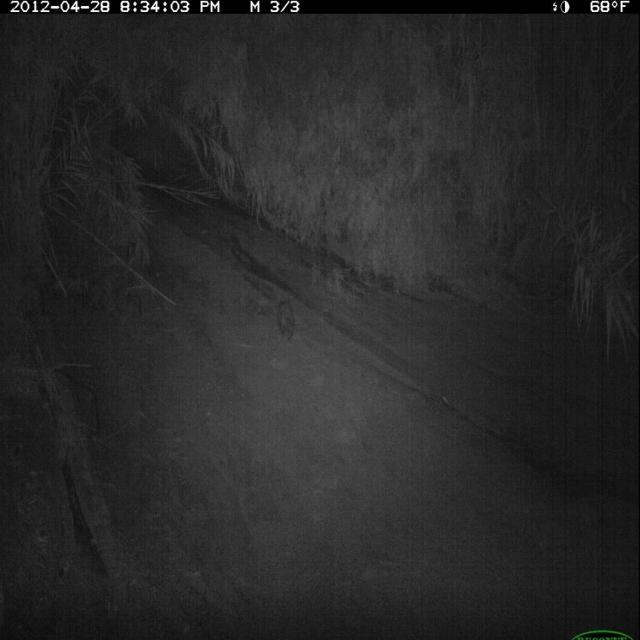opossum: (275, 296, 299, 346)
